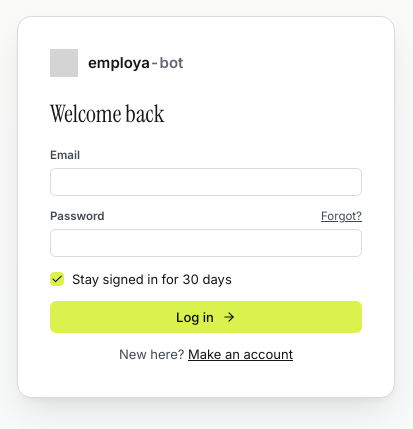
Test case: AuthFlow - login surface (/login) › "Make an account" link navigates to the /register surface
Click the button "Make an account".
click(240, 355)  # box [188, 345, 293, 365]
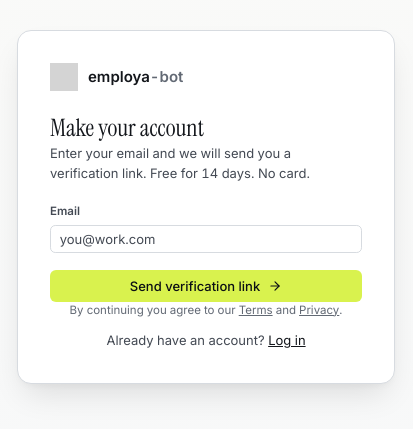
expect the heading "Make your account" is shown: met, box [50, 112, 204, 143]
